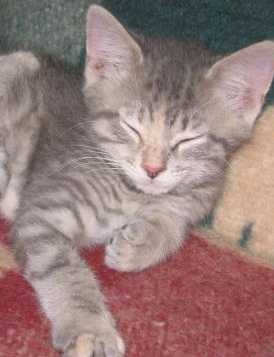Cat: (0, 5, 273, 328)
